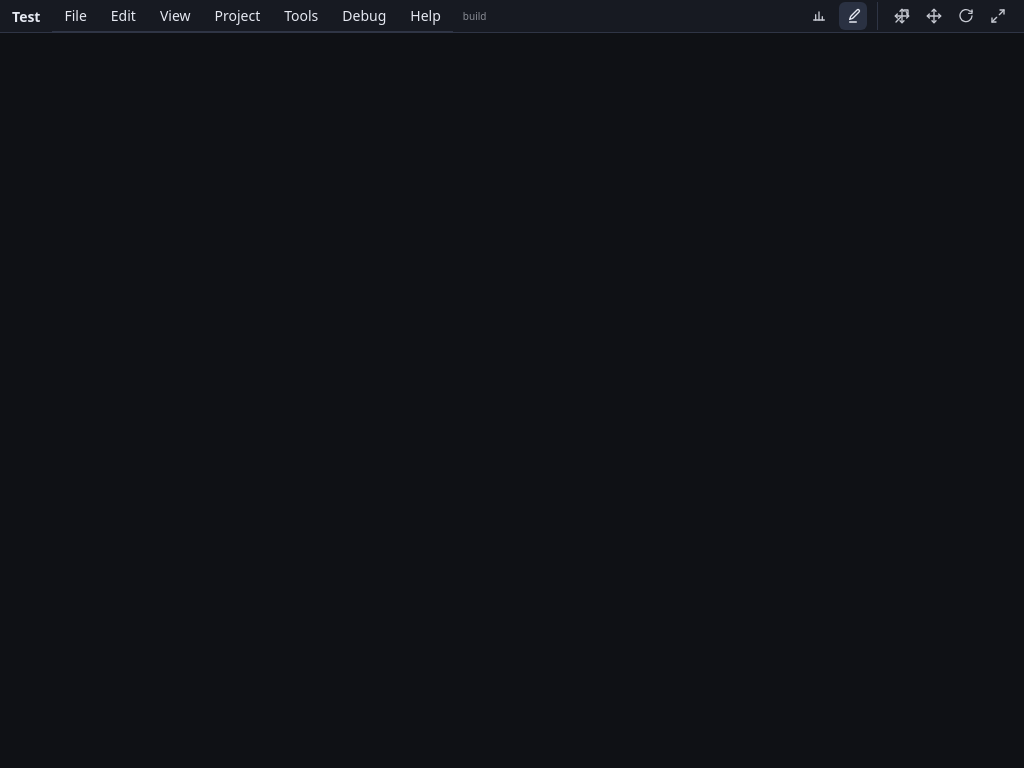
Scenario: BuilderHeader texture brush color › shows brush color controls in a floating popover after clicking the brush tool in paint mode
This screenshot has width=1024, height=768.
Step 1. Click the button named "Brush tool" → (853, 16), box [839,2,867,30]
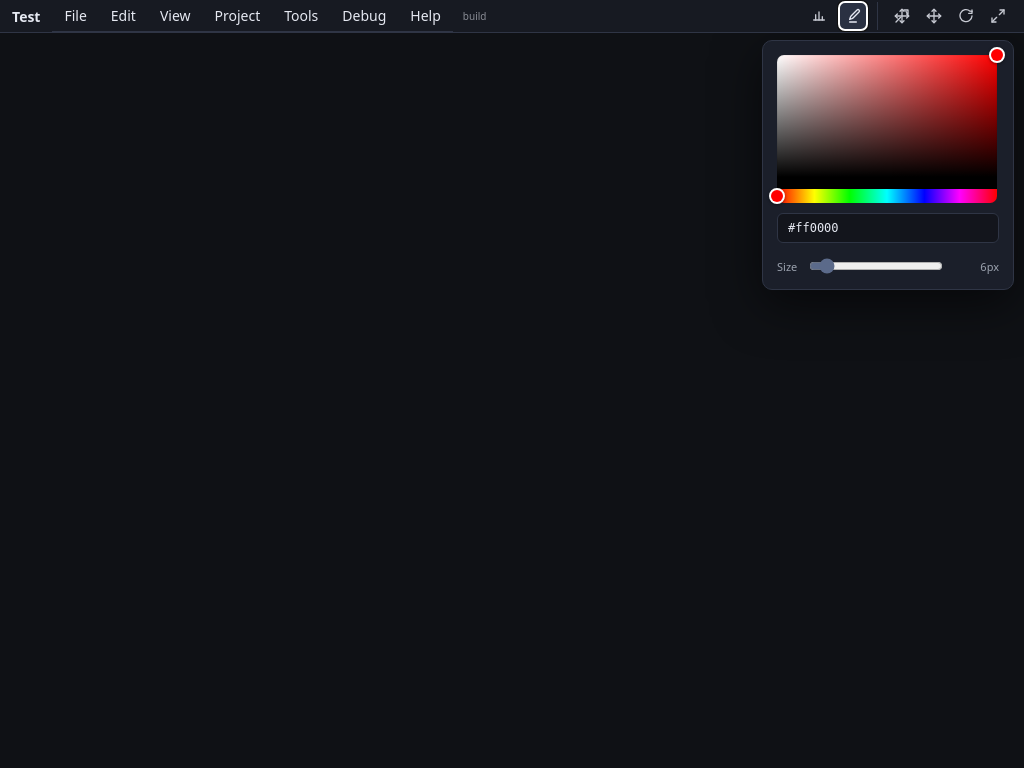
Check: the field with test id "texture-brush-color" holds "#ff0000", box [777,213,999,243]
Check: the dialog with test id "brush-tool-popover" is shown, box [762,40,1014,290]
